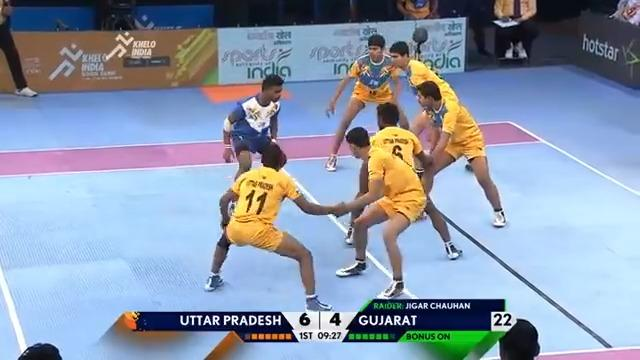Player: (203, 140, 355, 311), (382, 40, 507, 227), (343, 101, 463, 261), (334, 125, 428, 299), (324, 33, 409, 171)
Raider: (221, 73, 285, 182)
referee: (0, 0, 38, 97), (436, 0, 492, 57), (492, 0, 538, 65), (97, 0, 137, 30), (17, 342, 62, 359)
